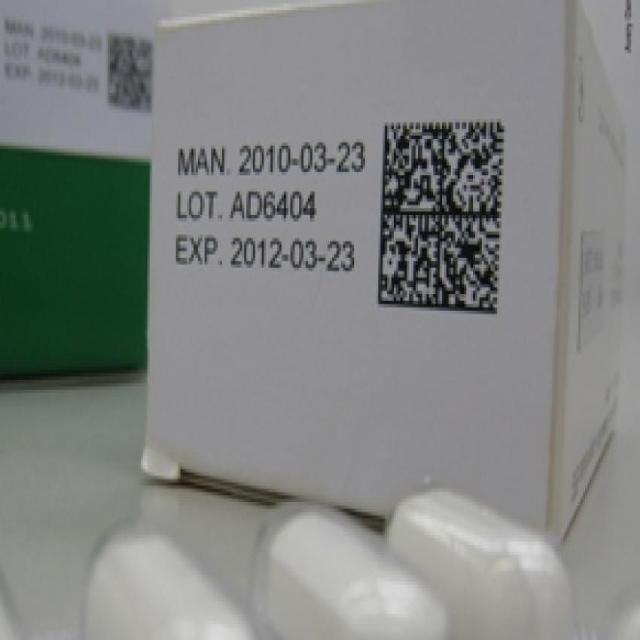datamatrix: (369, 110, 514, 328)
